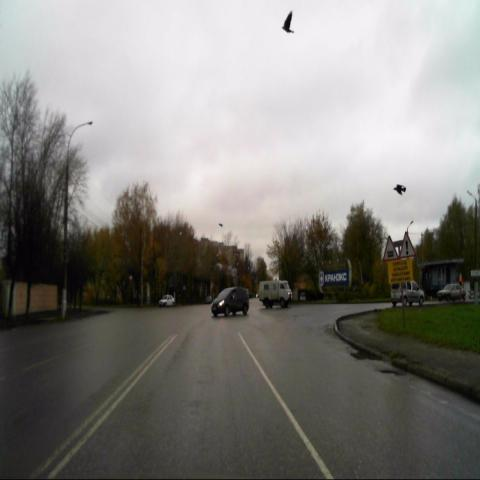1_1: (383, 235, 399, 262)
1_33: (400, 231, 416, 259)
